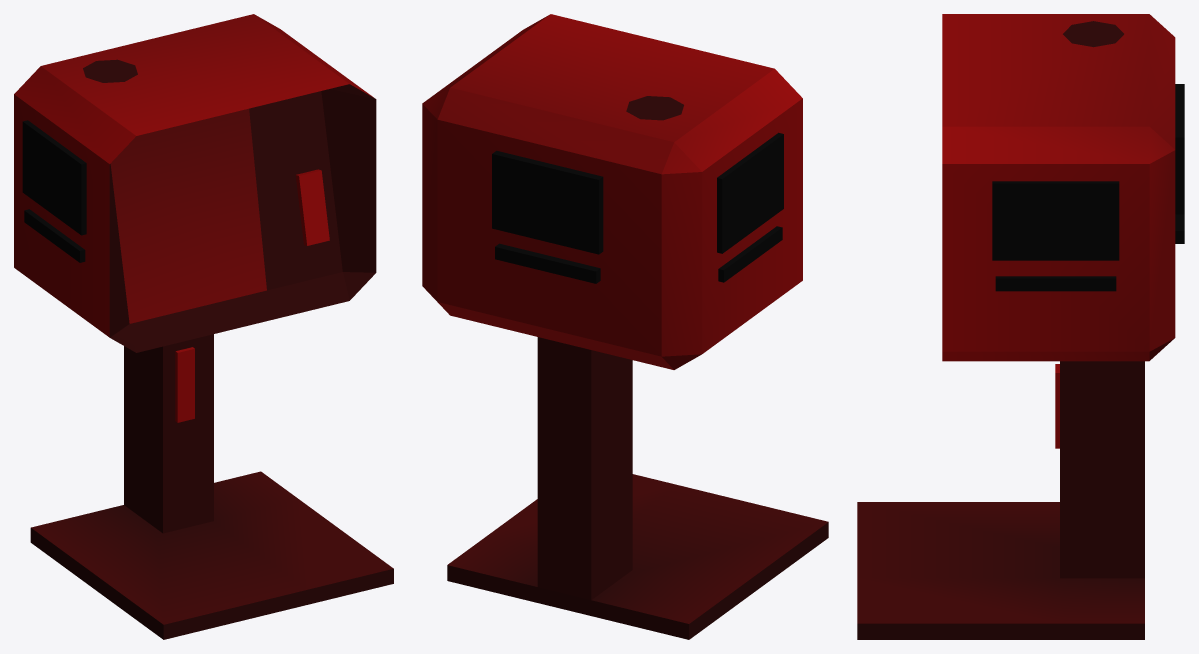
The model's file is NewspaperStand004.glb.
3 renders of one model, left to right at view 1: azimuth 30°, elevation 25°; view 2: azimuth 150°, elevation 25°; view 3: azimuth 270°, elevation 25°, orthographic. The views are drawn at different scales.
Parts seen in each view (by area): view 1: NewspaperStand004; view 2: NewspaperStand004; view 3: NewspaperStand004.
Part boxes in pixels (left/top/right/bottom): NewspaperStand004: left=14, top=14, right=393, bottom=639; NewspaperStand004: left=422, top=14, right=828, bottom=639; NewspaperStand004: left=857, top=14, right=1184, bottom=639.
Size of the model in its own units: 3.14 by 5.15 by 2.97.
